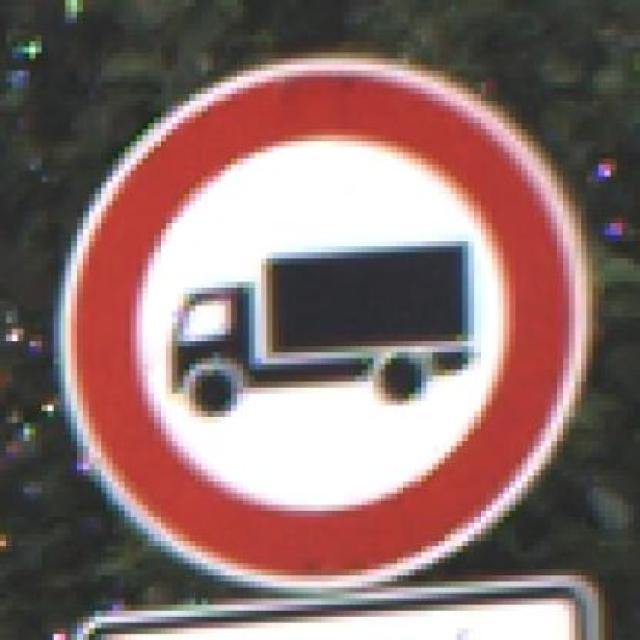Truck traffic is prohibited: (36, 41, 610, 599)
